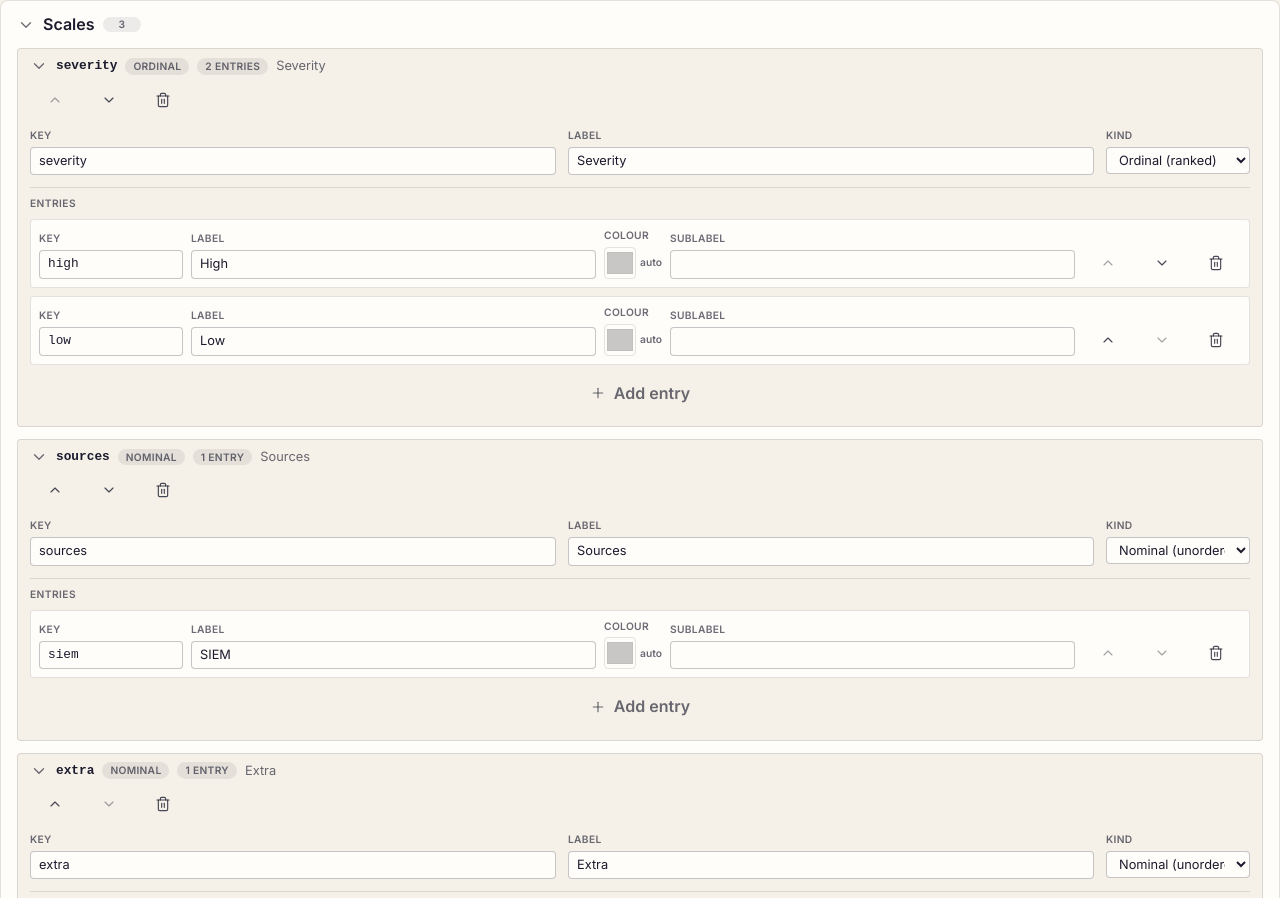
Test: ScalesEditor › rejects a duplicate key with a notice
The image size is (1280, 898).
Replace the text in the 1st field labelled "Key" with "sources" at coordinates (293, 161), box [30,147,556,175]
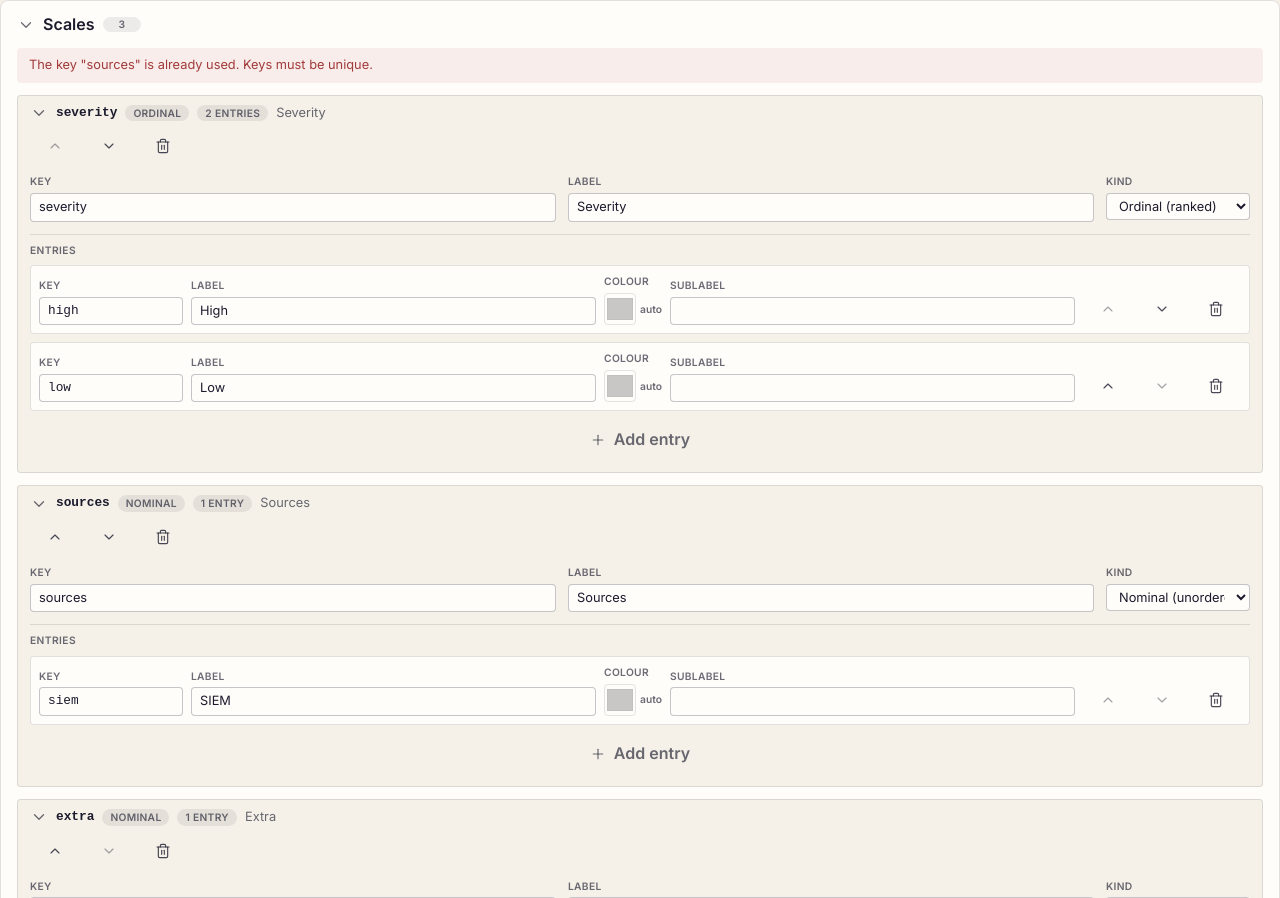
Now the message "The key \"sources\" is already used. Keys must be unique." is shown, box [17,48,1263,83]
